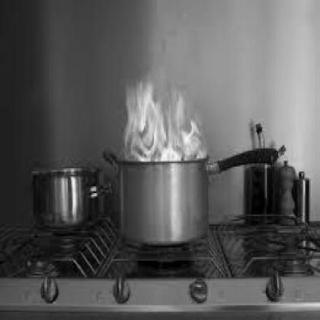Fire: (113, 65, 211, 167)
